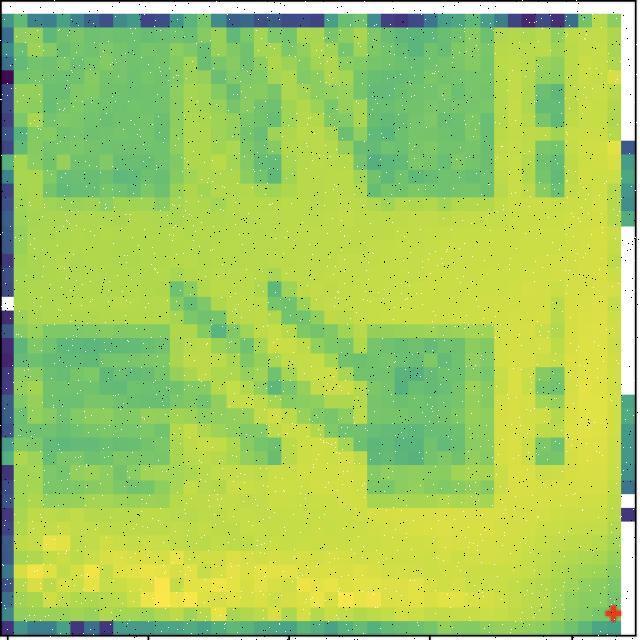Concrete: (41, 32, 187, 214)
Glass: (365, 321, 499, 511)
Metal: (42, 318, 180, 492)
Wood: (364, 30, 498, 202)
